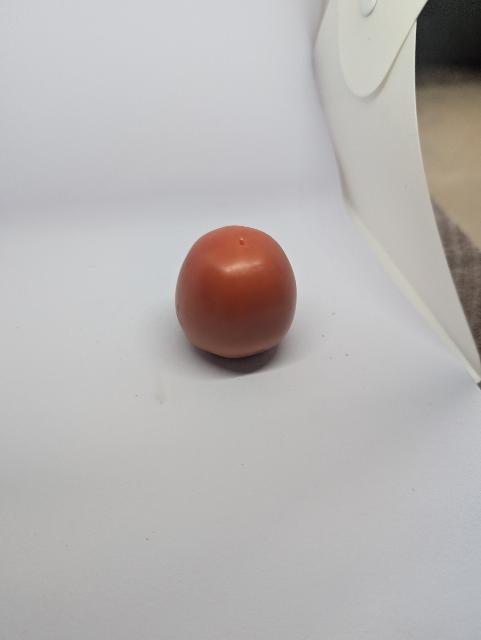red: (169, 219, 310, 378)
